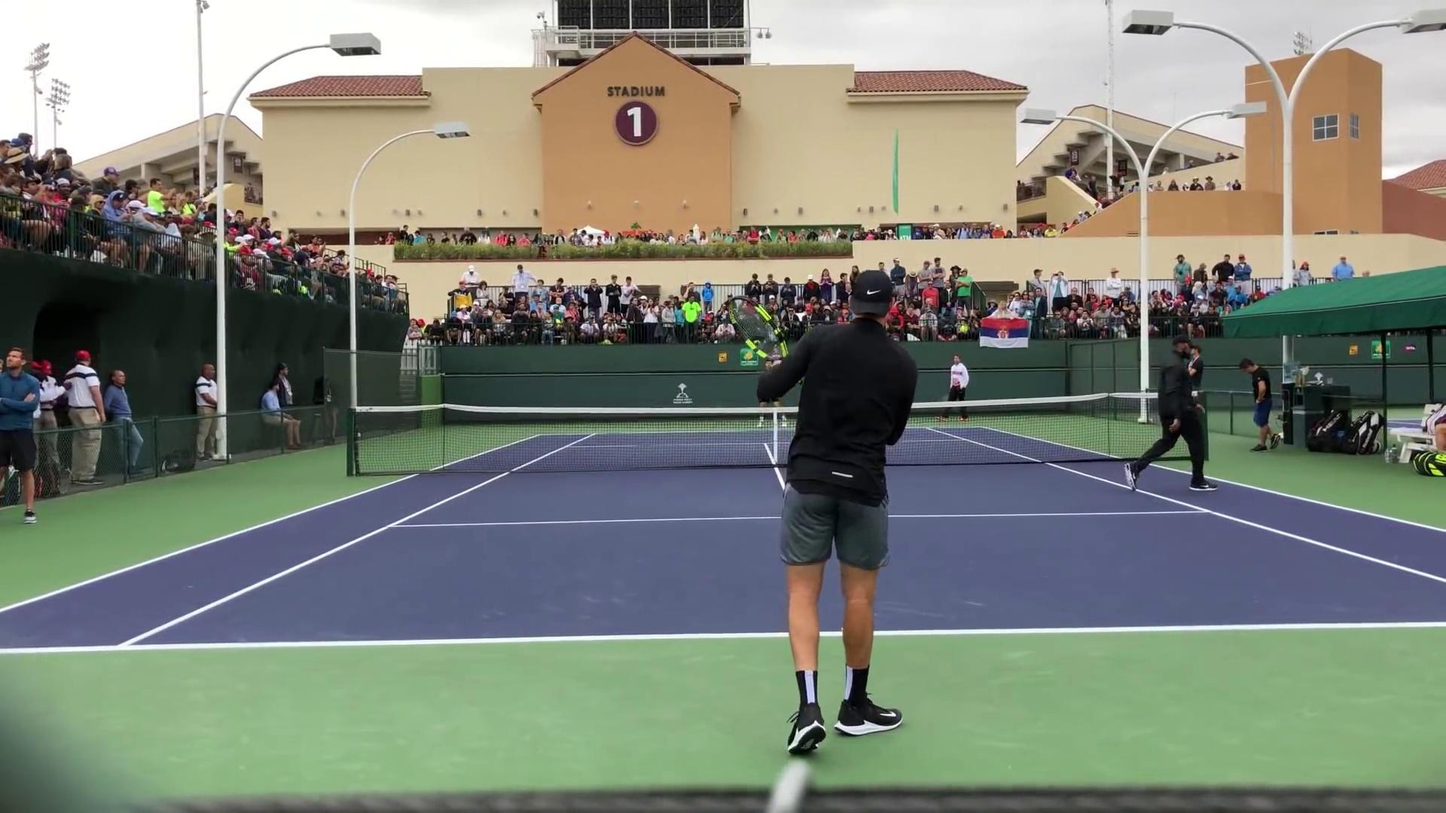ball: (432, 506, 435, 509)
